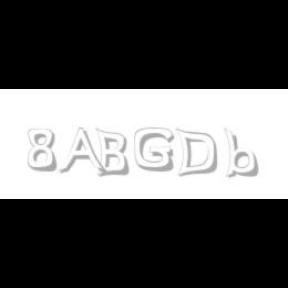8: (28, 128, 57, 172)
A: (58, 128, 106, 176)
B: (95, 128, 129, 178)
D: (174, 128, 218, 178)
G: (134, 128, 174, 172)
b: (224, 128, 262, 178)
